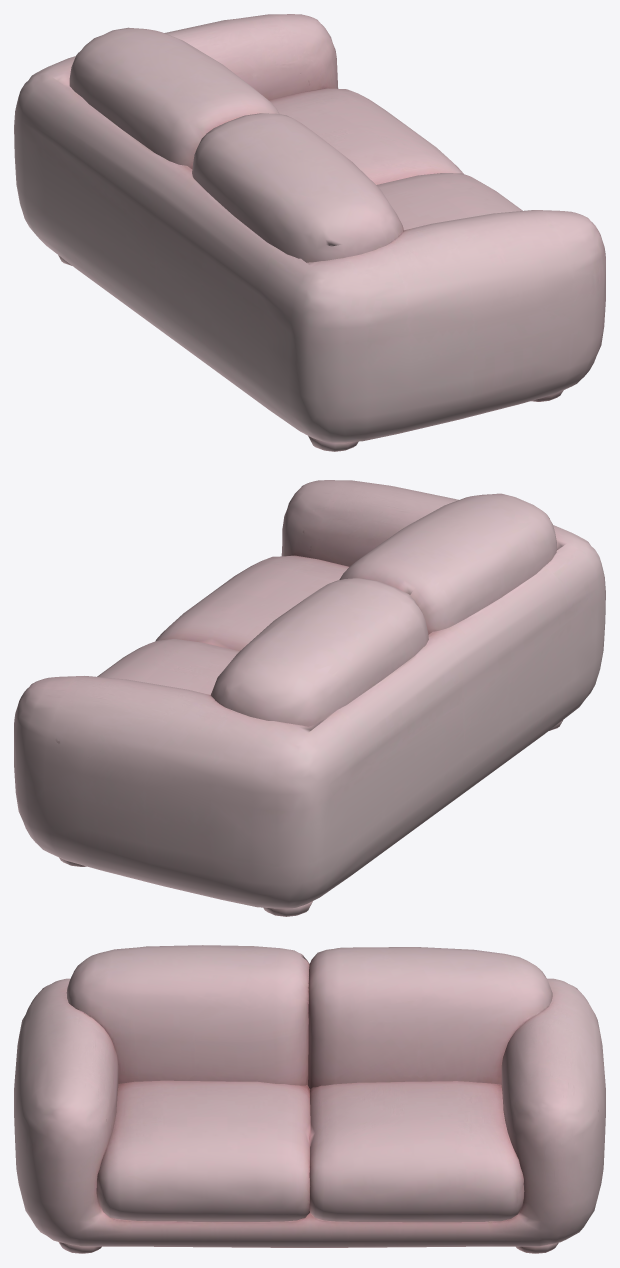
3 views of the same model, one above another, from view 1: azimuth 30°, elevation 25°; view 2: azimuth 150°, elevation 25°; view 3: azimuth 270°, elevation 25° (orthographic). The views are drawn at different scales.
Parts seen in each view (by area): view 1: tripo_node_93ae43dc-42f6-40fe-81a3-0d964b06748b; view 2: tripo_node_93ae43dc-42f6-40fe-81a3-0d964b06748b; view 3: tripo_node_93ae43dc-42f6-40fe-81a3-0d964b06748b.
Boxes of the visible parts, left/top/right/bottom form: tripo_node_93ae43dc-42f6-40fe-81a3-0d964b06748b: left=14, top=14, right=605, bottom=451; tripo_node_93ae43dc-42f6-40fe-81a3-0d964b06748b: left=14, top=480, right=605, bottom=916; tripo_node_93ae43dc-42f6-40fe-81a3-0d964b06748b: left=14, top=945, right=605, bottom=1253.
Bounding box in the file's own units: 0.5684 × 0.3965 × 0.998.
Materials: 1 (1 with a texture image).
